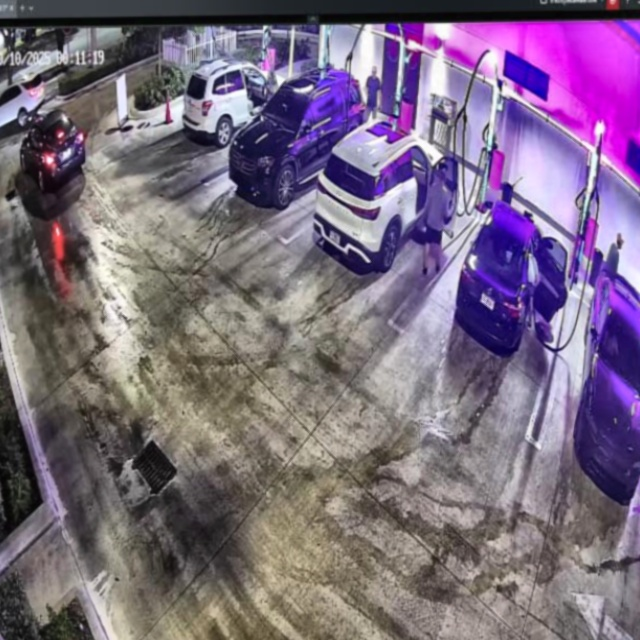Car: (316, 120, 455, 273), (230, 71, 365, 204), (455, 201, 569, 351), (182, 61, 289, 145)
